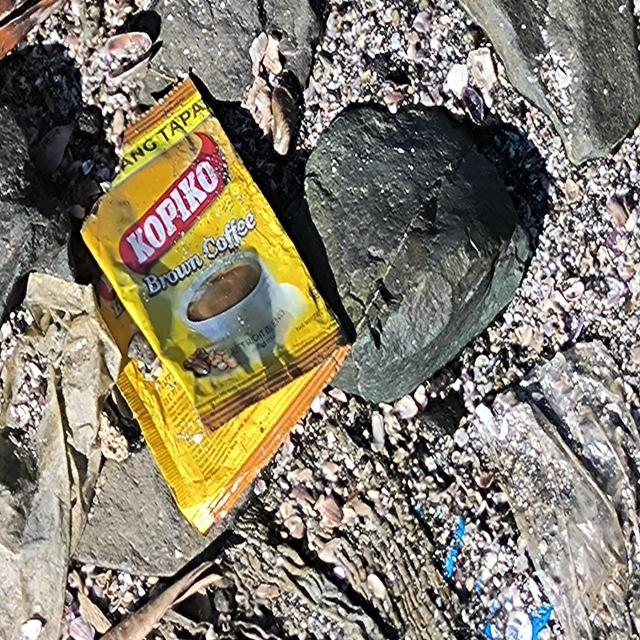plastic_waste: (79, 71, 356, 537)
